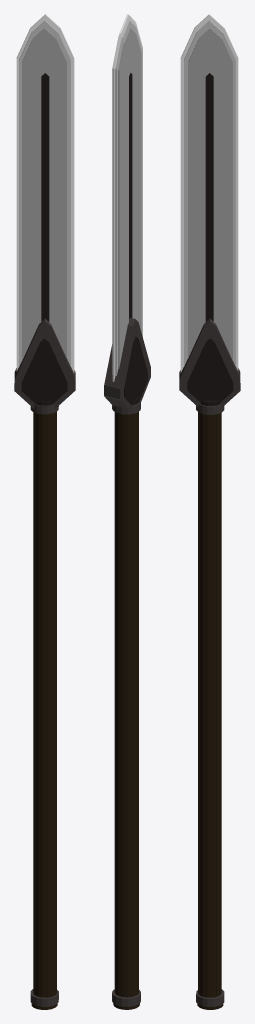
The picture shows the model from 3 angles, left to right: view 1: azimuth 90°, elevation 25°; view 2: azimuth 150°, elevation 25°; view 3: azimuth 270°, elevation 25°; orthographic projection.
Visible parts, largest first — view 1: 4e67b57f-f5c4-b4bd-f32e-e8137897c5f0, 930ed55f-3e32-14de-5765-2a7c1030012d, 19565ba6-9d28-5f13-4249-baa3bda207f6, 0f2f159a-ec21-9a86-ee22-4f1475eb3b41, 7c220ac8-7672-75a7-9721-eb2d5c502961, afd978aa-c1aa-c2a9-7c33-d5c4b1a01db6, fe33c45f-fa39-e72a-92ba-7a47a375f61c, 662dfe2b-57a4-a6a3-6bef-1701312a49fa, 9a27afd5-3687-586c-72b7-45150cf65e28, da48c35a-5f0b-437d-4179-9028384ec4ae, 65840b7d-0ff4-7f4b-8e47-30d831cf491f, bf03764b-a8e4-343c-efd0-88bcb27bc4ff (+12 smaller); view 2: 4e67b57f-f5c4-b4bd-f32e-e8137897c5f0, 65840b7d-0ff4-7f4b-8e47-30d831cf491f, fe33c45f-fa39-e72a-92ba-7a47a375f61c, aff17b51-c5f5-36c8-685a-965312228a78, 930ed55f-3e32-14de-5765-2a7c1030012d, 7c220ac8-7672-75a7-9721-eb2d5c502961, da48c35a-5f0b-437d-4179-9028384ec4ae, 5bf47b6a-43c3-f3de-8f8c-45836c53dbf6, 19565ba6-9d28-5f13-4249-baa3bda207f6, 9a27afd5-3687-586c-72b7-45150cf65e28, b00f72fc-ae9e-43ec-70c1-33e967995e3e, de89b1b2-d64b-072e-04a7-4778e6cd6579 (+14 smaller); view 3: 4e67b57f-f5c4-b4bd-f32e-e8137897c5f0, 930ed55f-3e32-14de-5765-2a7c1030012d, d2d73052-0ad5-e4e6-75a3-2ef5152bb612, c90dcbc8-b120-f7f5-cc4c-690a77cfa6b2, 1f2e88f6-27cf-165e-54c7-0e9f5e7a0ff3, bee44641-889a-2c93-b72a-ecea1c579e05, b00f72fc-ae9e-43ec-70c1-33e967995e3e, 662dfe2b-57a4-a6a3-6bef-1701312a49fa, 9a27afd5-3687-586c-72b7-45150cf65e28, da48c35a-5f0b-437d-4179-9028384ec4ae, 5bf47b6a-43c3-f3de-8f8c-45836c53dbf6, bc886c63-0158-cdec-2abd-657d1f287aed (+12 smaller).
Part boxes in pixels (box(x1,y1,x2,y2)): 4e67b57f-f5c4-b4bd-f32e-e8137897c5f0: box(22, 62, 41, 360); 930ed55f-3e32-14de-5765-2a7c1030012d: box(49, 62, 66, 358); 19565ba6-9d28-5f13-4249-baa3bda207f6: box(42, 414, 47, 997); 0f2f159a-ec21-9a86-ee22-4f1475eb3b41: box(47, 413, 51, 997); 7c220ac8-7672-75a7-9721-eb2d5c502961: box(38, 414, 42, 997); afd978aa-c1aa-c2a9-7c33-d5c4b1a01db6: box(52, 412, 55, 996); fe33c45f-fa39-e72a-92ba-7a47a375f61c: box(35, 413, 38, 996); 662dfe2b-57a4-a6a3-6bef-1701312a49fa: box(41, 73, 49, 321); 9a27afd5-3687-586c-72b7-45150cf65e28: box(16, 58, 74, 373); da48c35a-5f0b-437d-4179-9028384ec4ae: box(19, 60, 70, 366); 65840b7d-0ff4-7f4b-8e47-30d831cf491f: box(33, 412, 35, 995); bf03764b-a8e4-343c-efd0-88bcb27bc4ff: box(55, 412, 56, 994); 4e67b57f-f5c4-b4bd-f32e-e8137897c5f0: box(118, 66, 128, 368); 65840b7d-0ff4-7f4b-8e47-30d831cf491f: box(123, 414, 127, 997); fe33c45f-fa39-e72a-92ba-7a47a375f61c: box(128, 414, 132, 997); aff17b51-c5f5-36c8-685a-965312228a78: box(119, 413, 123, 996); 930ed55f-3e32-14de-5765-2a7c1030012d: box(132, 54, 141, 332); 7c220ac8-7672-75a7-9721-eb2d5c502961: box(132, 413, 135, 996); da48c35a-5f0b-437d-4179-9028384ec4ae: box(112, 50, 142, 375); 5bf47b6a-43c3-f3de-8f8c-45836c53dbf6: box(116, 412, 118, 995); 19565ba6-9d28-5f13-4249-baa3bda207f6: box(136, 412, 138, 995); 9a27afd5-3687-586c-72b7-45150cf65e28: box(112, 48, 142, 381); b00f72fc-ae9e-43ec-70c1-33e967995e3e: box(114, 412, 115, 993); de89b1b2-d64b-072e-04a7-4778e6cd6579: box(104, 325, 138, 389); 4e67b57f-f5c4-b4bd-f32e-e8137897c5f0: box(213, 62, 232, 360); 930ed55f-3e32-14de-5765-2a7c1030012d: box(188, 62, 205, 358); d2d73052-0ad5-e4e6-75a3-2ef5152bb612: box(203, 414, 207, 997); c90dcbc8-b120-f7f5-cc4c-690a77cfa6b2: box(212, 414, 216, 997); 1f2e88f6-27cf-165e-54c7-0e9f5e7a0ff3: box(207, 415, 211, 997); bee44641-889a-2c93-b72a-ecea1c579e05: box(200, 413, 203, 996); b00f72fc-ae9e-43ec-70c1-33e967995e3e: box(216, 413, 219, 996); 662dfe2b-57a4-a6a3-6bef-1701312a49fa: box(205, 73, 213, 321); 9a27afd5-3687-586c-72b7-45150cf65e28: box(180, 58, 238, 373); da48c35a-5f0b-437d-4179-9028384ec4ae: box(184, 60, 235, 366); 5bf47b6a-43c3-f3de-8f8c-45836c53dbf6: box(219, 412, 221, 995); bc886c63-0158-cdec-2abd-657d1f287aed: box(198, 412, 199, 995).
Size of the model in its own units: 1.05 by 39.71 by 2.22.
Materials: 4 (4 with a texture image).
